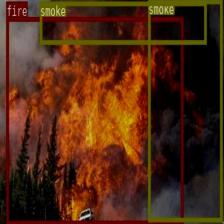fire: (6, 16, 183, 224)
smoke: (147, 0, 221, 220), (40, 0, 206, 44)
